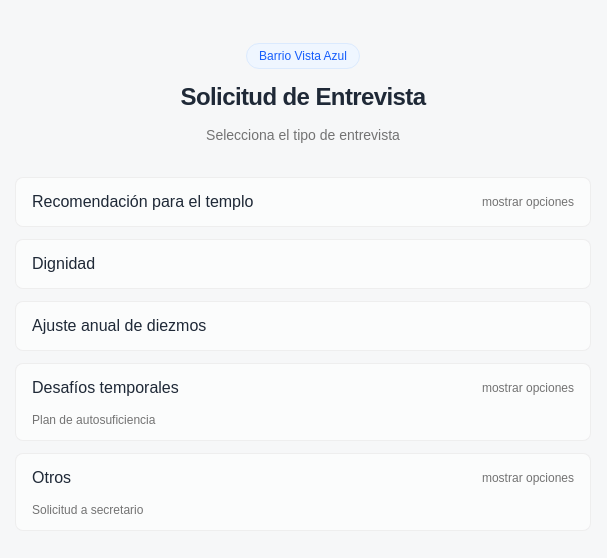
Test case: Home Page › Expandable Options › expands Desafíos temporales when clicked
Click the button "Desafíos temporales mostrar opciones" at (105, 388), box 16,364 -> 590,412
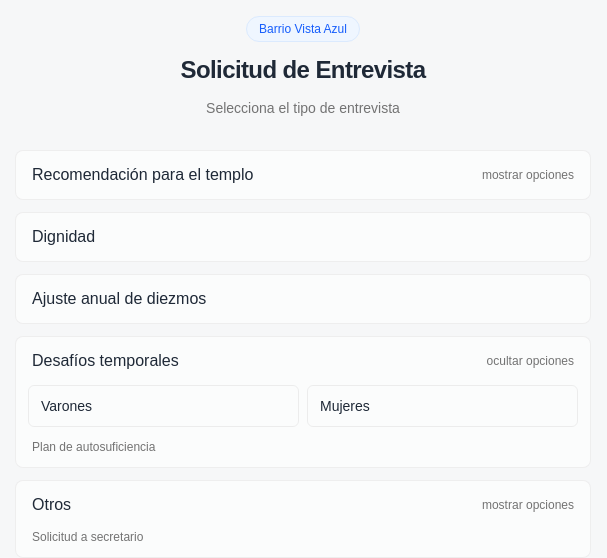
Now the text "Varones" is shown, box 41,398 -> 92,414
Now the text "Mujeres" is shown, box 320,398 -> 370,414
